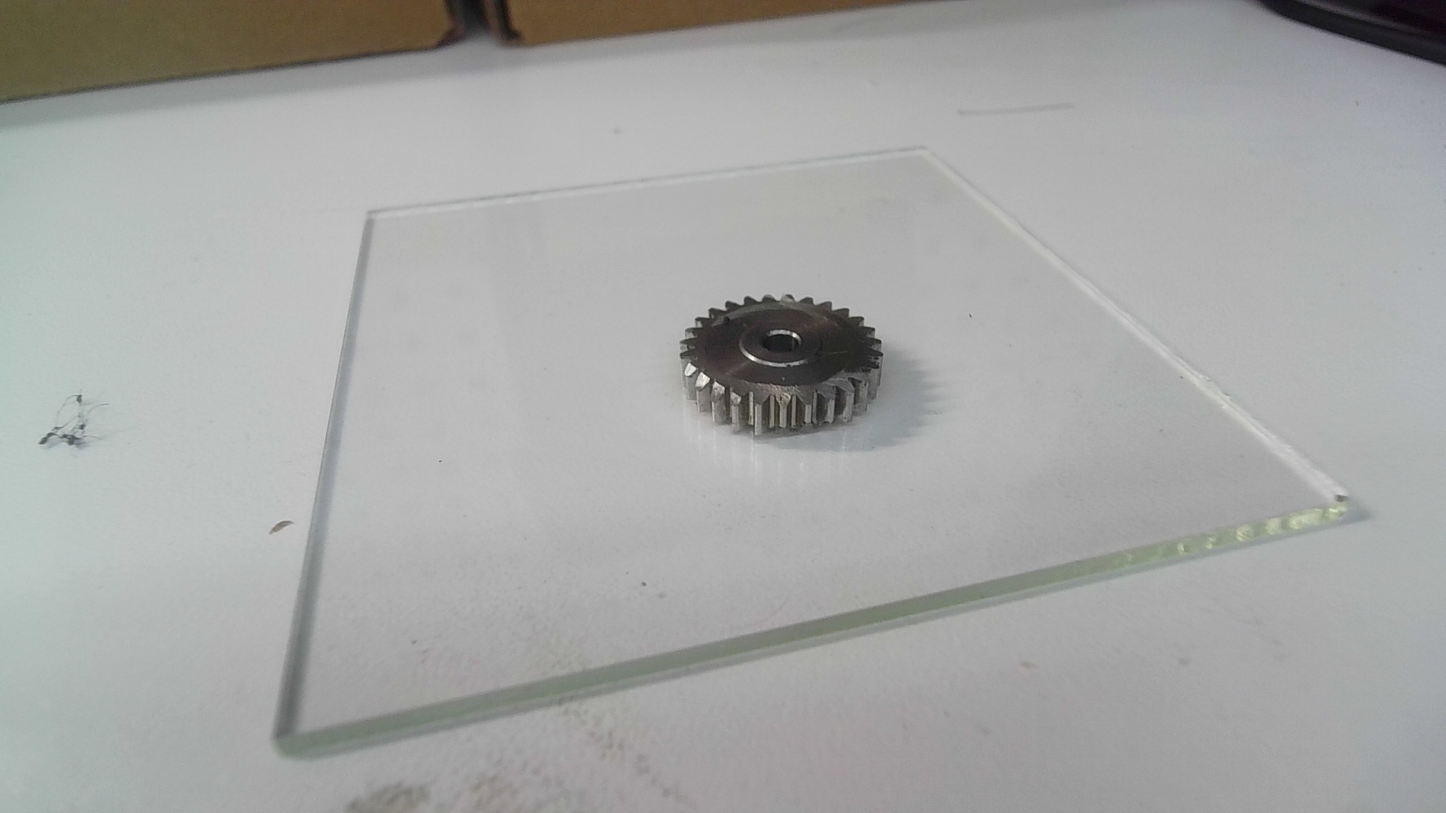gear: (677, 292, 884, 442)
